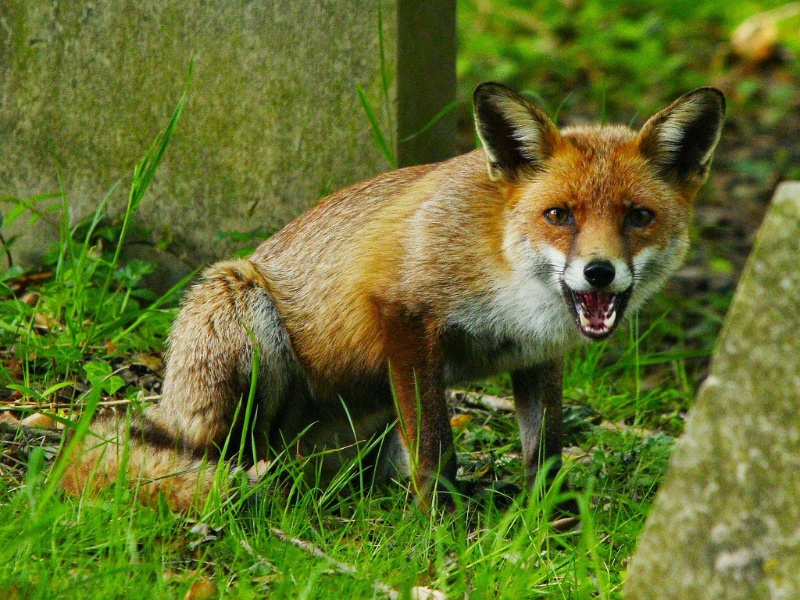fox: (56, 76, 732, 524)
